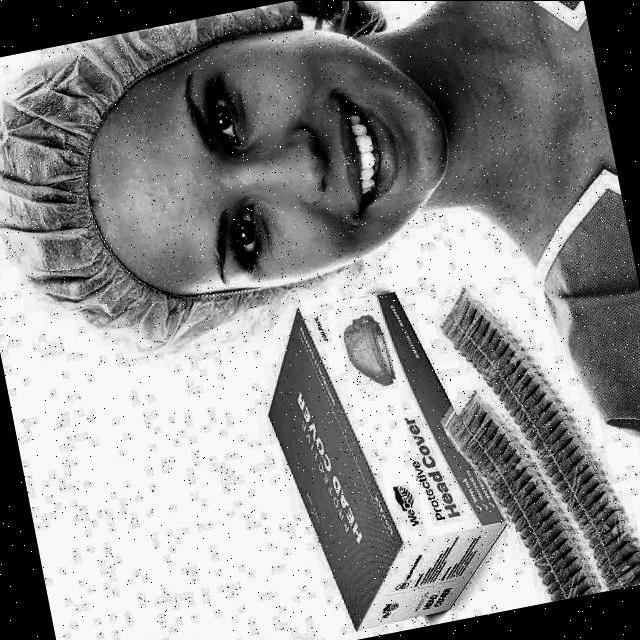gloves: (0, 8, 171, 308)
no_hairnet: (260, 67, 406, 245)
